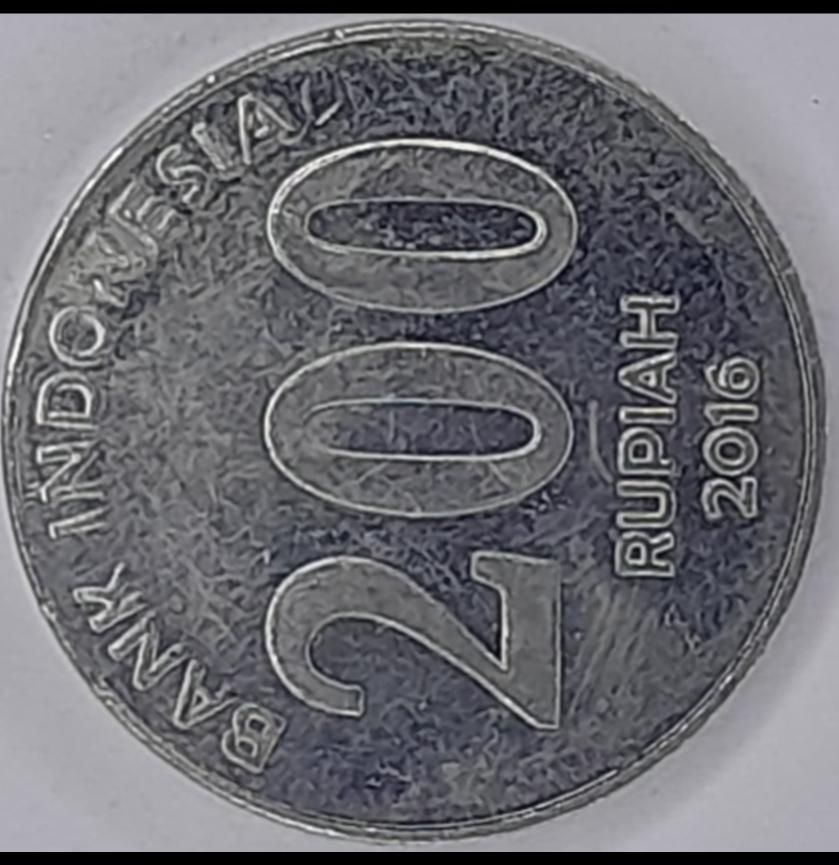coin_200_e2016: (0, 15, 839, 865)
